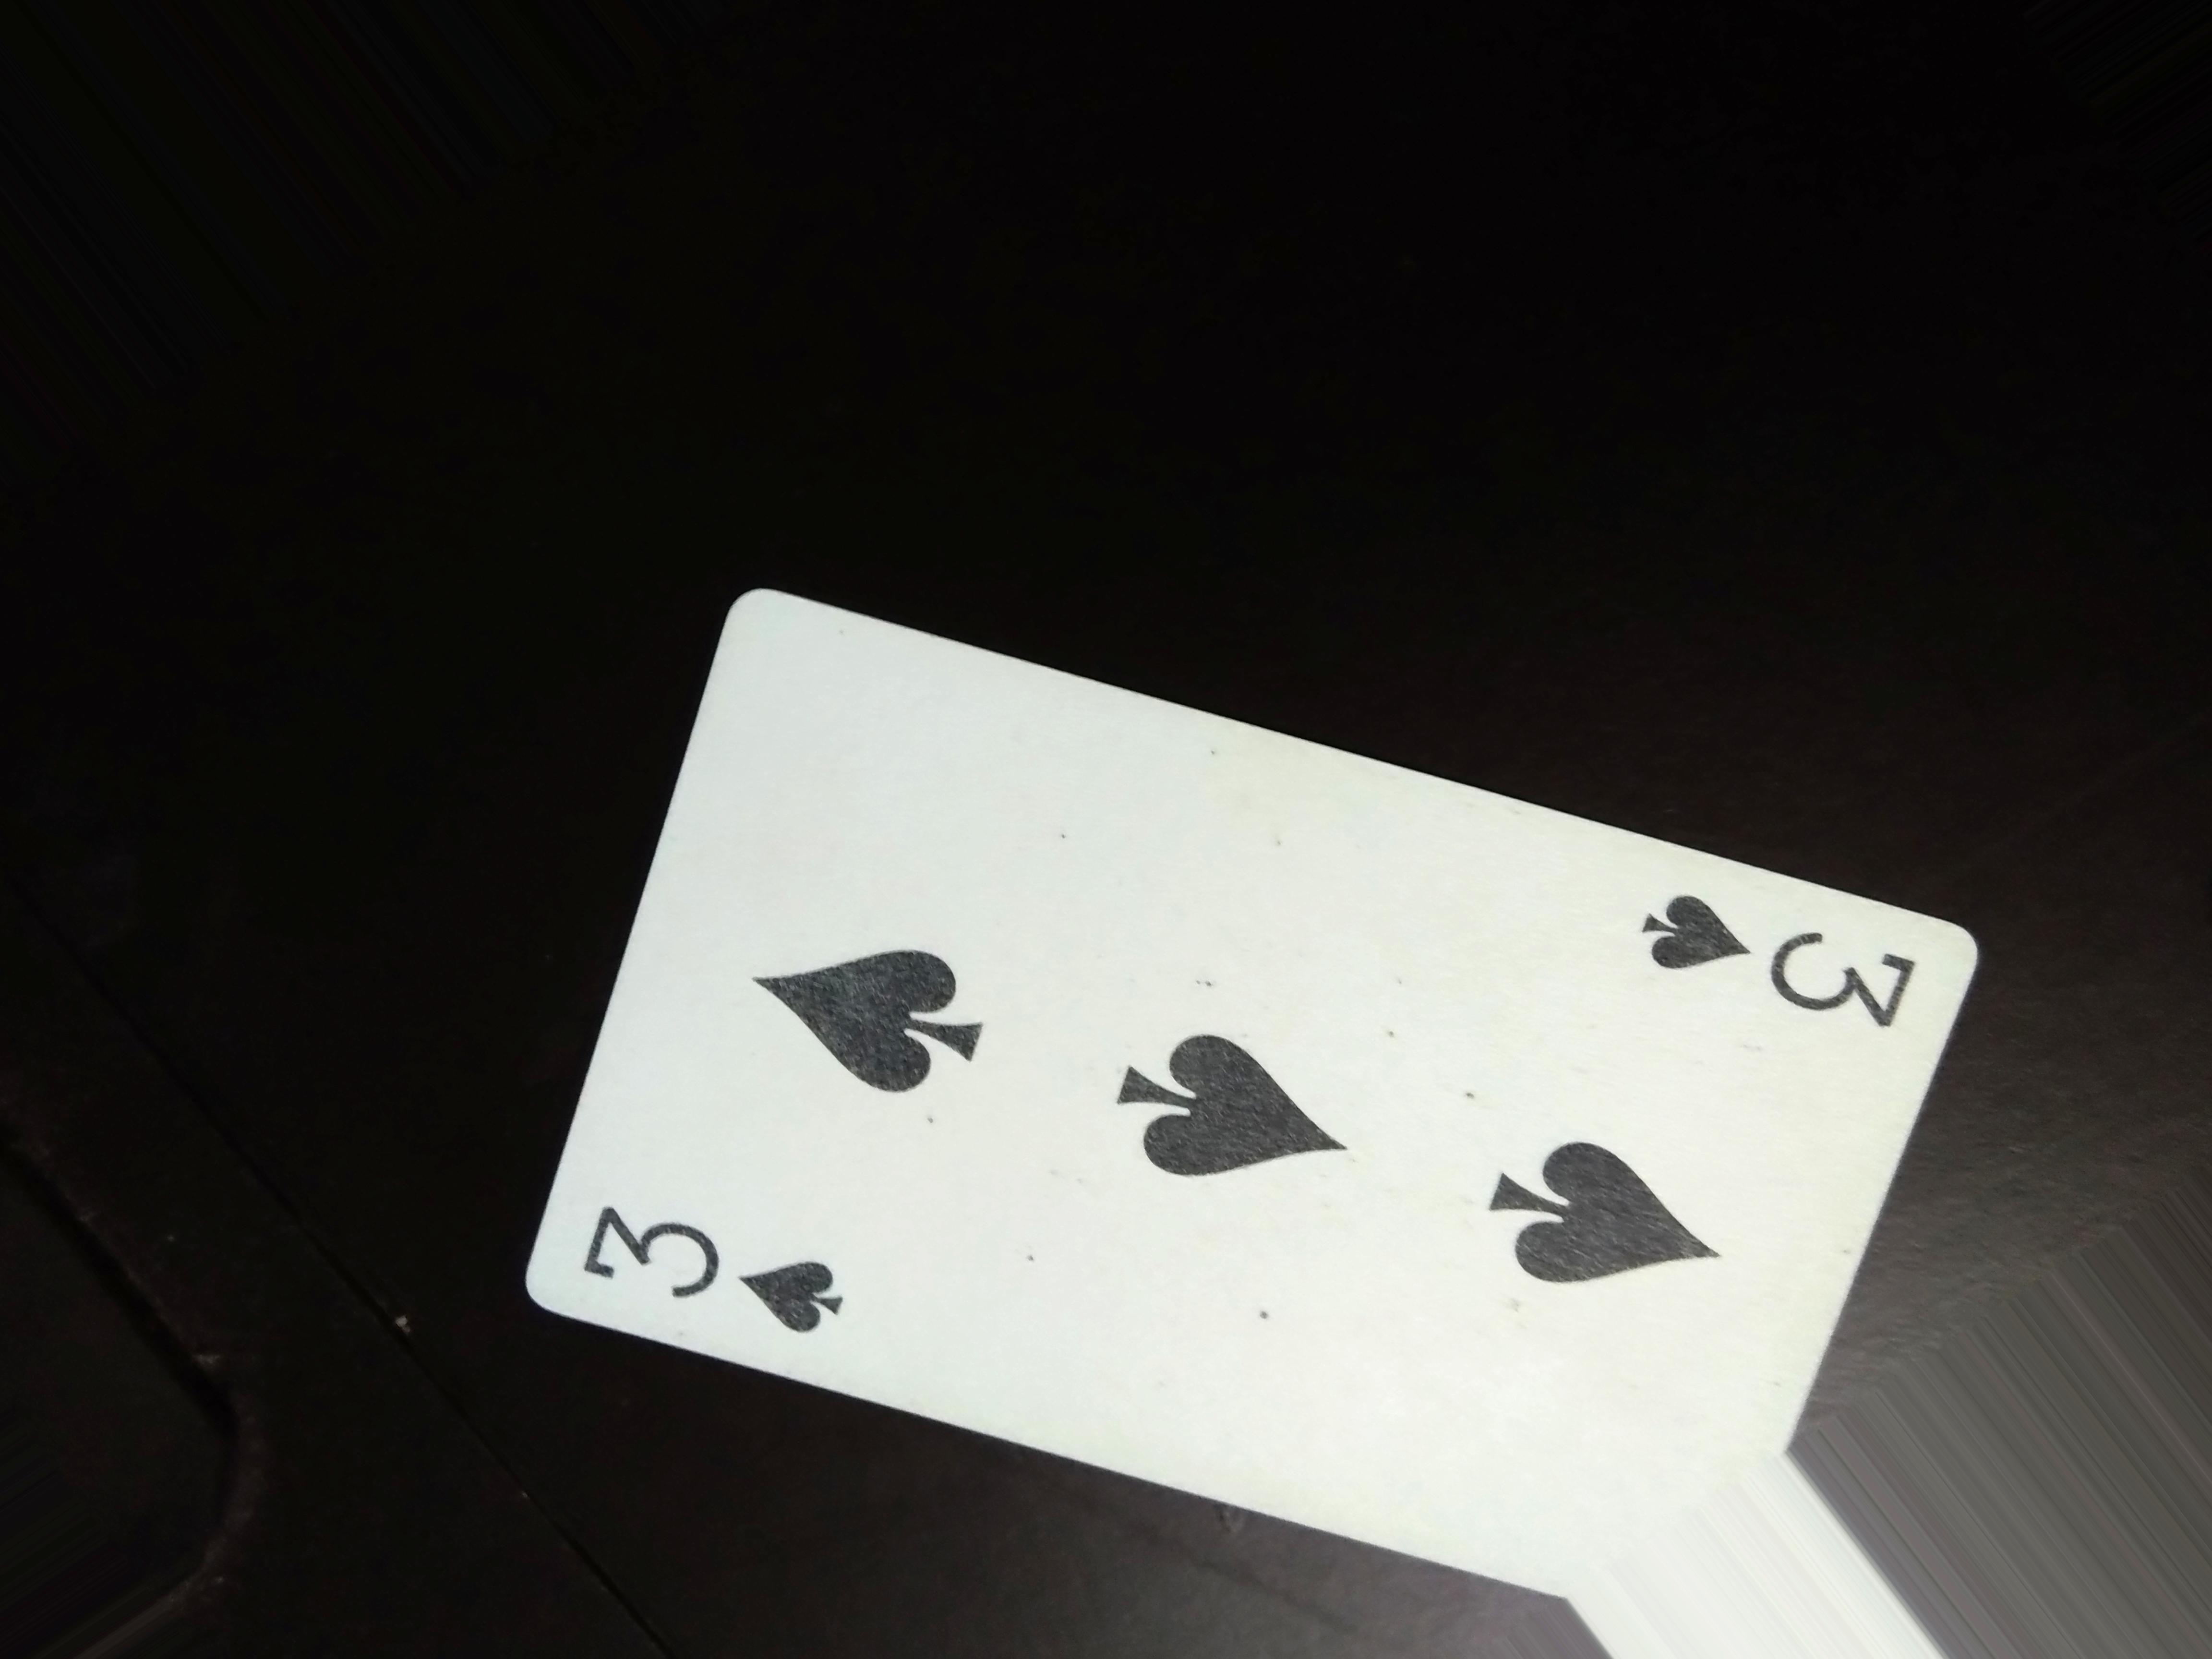3S: (573, 1188, 848, 1363)
